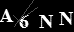6: (18, 14, 30, 28)
A: (1, 8, 13, 23)
N: (37, 14, 54, 29), (57, 11, 74, 25)
